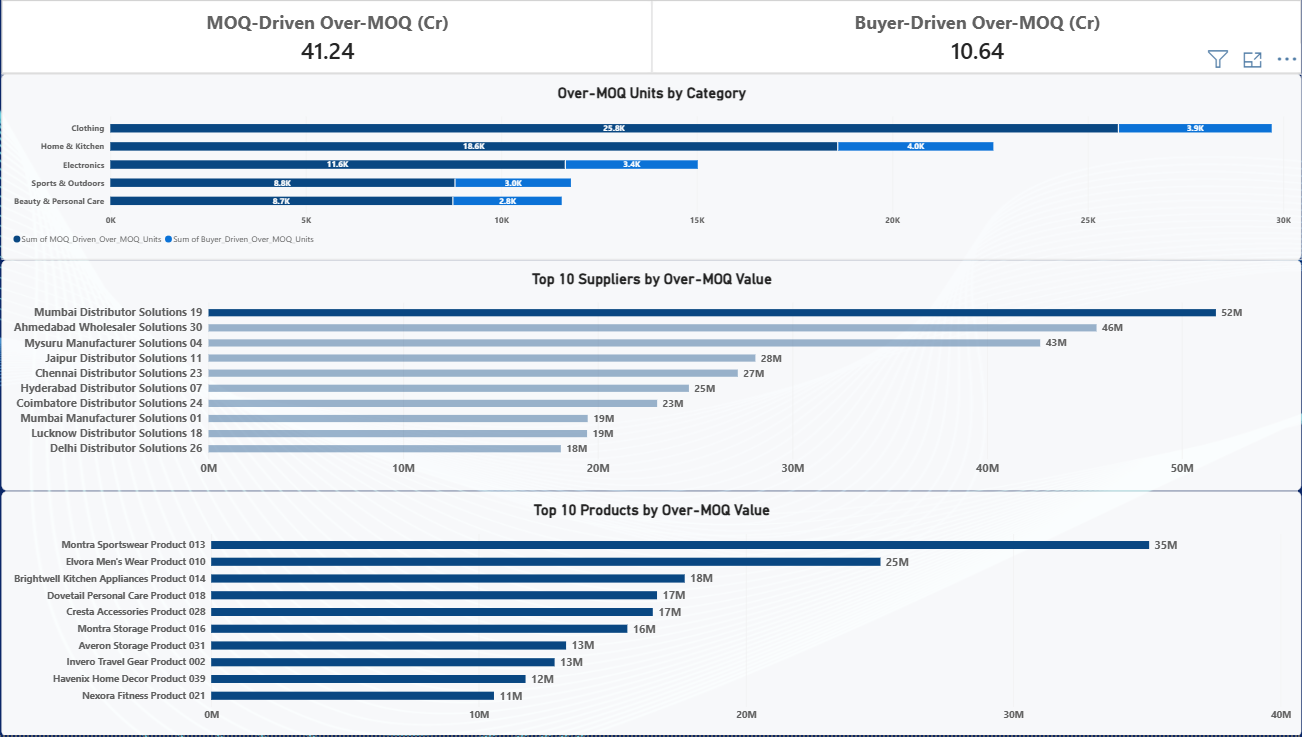

The page's visual inventory and layout, read from the dashboard file:
{"tool":"powerbi","page":{"name":"Over MOQ Impact","canvas":[1920,1080],"ordinal":1},"visuals":[{"type":"cardVisual","fields":{"Data":["Over_MOQ_Supplier_Type.MOQ-Driven Over-MOQ (Cr)","Over_MOQ_Supplier_Type.Buyer-Driven Over-MOQ (Cr)"]},"box":[10.9,0,1909.2,108.6],"z":0},{"type":"barChart","title":"Over-MOQ Units by Category","fields":{"Category":["Over_MOQ_Category.Category"],"Y":["Sum(Over_MOQ_Category.MOQ_Driven_Over_MOQ_Units)","Sum(Over_MOQ_Category.Buyer_Driven_Over_MOQ_Units)"]},"box":[10.9,108.6,1909.2,273.3],"z":1000},{"type":"clusteredBarChart","title":"Top 10 Suppliers by Over-MOQ Value","fields":{"Category":["Supplier_Over_MOQ.Supplier_Name"],"Y":["Sum(Supplier_Over_MOQ.Total_Over_MOQ_Purchase_Value)"]},"box":[10.9,381.8,1909.2,338.4],"z":2000},{"type":"clusteredBarChart","title":"Top 10 Products by Over-MOQ Value","fields":{"Category":["Product_Over_MOQ.Product_Name"],"Y":["Sum(Product_Over_MOQ.Total_Over_MOQ_Purchase_Value)"]},"box":[10.9,720.2,1909.2,360.1],"z":3000}]}

Visuals, with their boxes in screenshot pixels (x1, y1, x2, y2), scaled from the page's 1920x1080 canvas onto the 1302x737 screenshot:
cardVisual - Over_MOQ_Supplier_Type.MOQ-Driven Over-MOQ (Cr) x Over_MOQ_Supplier_Type.Buyer-Driven Over-MOQ (Cr): box=[7, 0, 1301, 74]
"Over-MOQ Units by Category" barChart: box=[7, 74, 1301, 261]
"Top 10 Suppliers by Over-MOQ Value" clusteredBarChart: box=[7, 261, 1301, 491]
"Top 10 Products by Over-MOQ Value" clusteredBarChart: box=[7, 491, 1301, 736]
